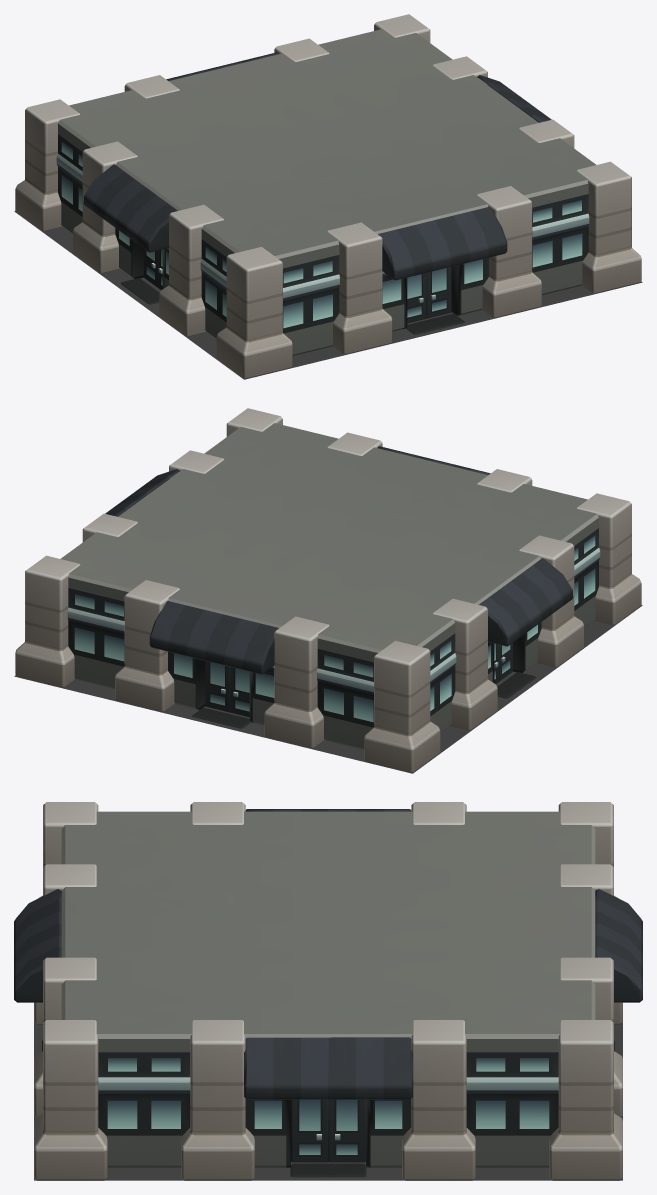
The model's file is office_building_type1_ground_floor_grey.fbx.
3 renders of one model, top to bottom at view 1: azimuth 30°, elevation 25°; view 2: azimuth 150°, elevation 25°; view 3: azimuth 270°, elevation 25°, orthographic. The views are drawn at different scales.
Visible parts, largest first — view 1: office_building_type1_ground_floor_grey, door_front_office_right, door_front_office_left; view 2: office_building_type1_ground_floor_grey, door_back_office_left, door_back_office_right; view 3: office_building_type1_ground_floor_grey, door_rightside_office_left, door_rightside_office_right.
Part boxes in pixels (<box>): office_building_type1_ground_floor_grey: <box>14,14,642,379</box>; door_front_office_right: <box>426,267,451,318</box>; door_front_office_left: <box>407,273,426,323</box>; office_building_type1_ground_floor_grey: <box>14,408,642,773</box>; door_back_office_left: <box>205,661,230,712</box>; door_back_office_right: <box>230,667,249,717</box>; office_building_type1_ground_floor_grey: <box>14,802,642,1180</box>; door_rightside_office_left: <box>291,1099,328,1162</box>; door_rightside_office_right: <box>328,1099,365,1162</box>.
Bounding box in the file's own units: 1708 × 409 × 1708.
